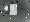person: (11, 5, 18, 16), (6, 6, 10, 15)
